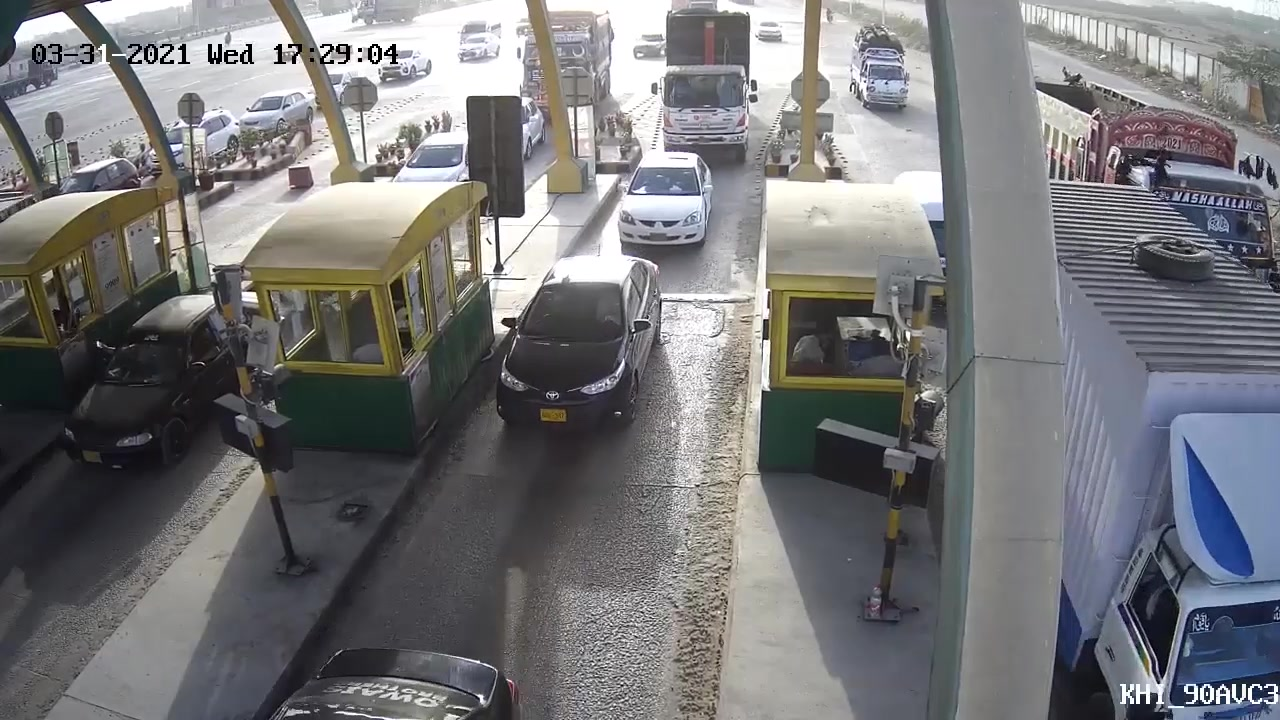F1: (476, 249, 661, 430)
